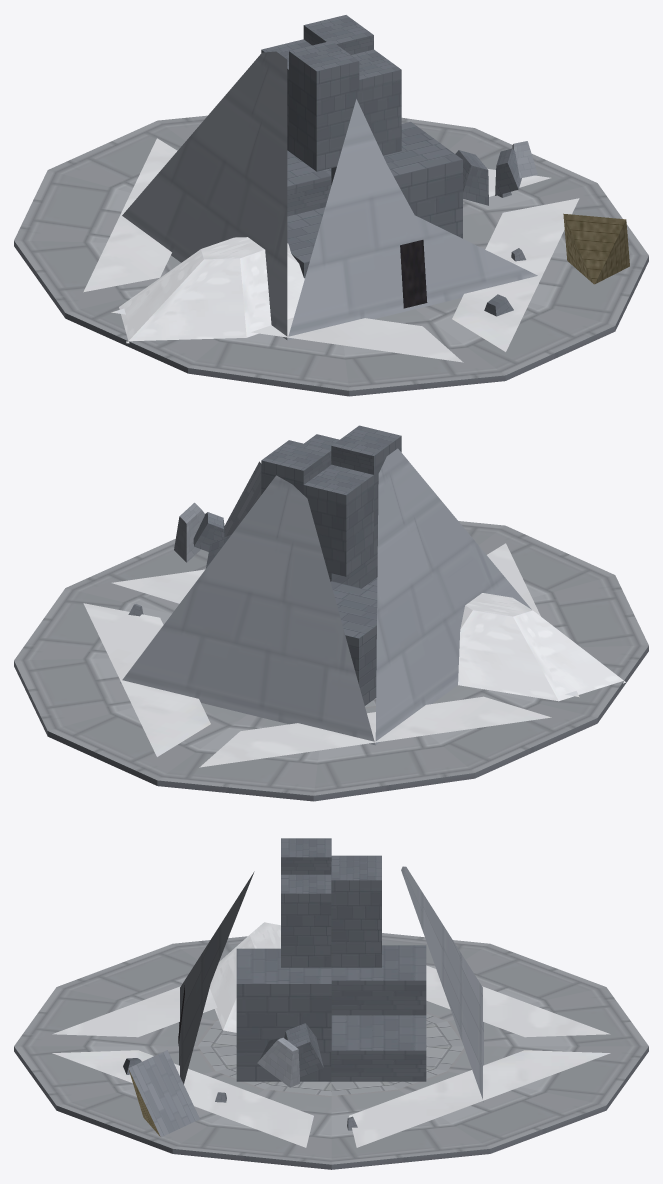
The model's file is pyramid_large_destroyed_lod2.glb.
The picture shows the model from 3 angles, top to bottom: view 1: azimuth 30°, elevation 25°; view 2: azimuth 150°, elevation 25°; view 3: azimuth 270°, elevation 25°; orthographic projection. The views are drawn at different scales.
Visible parts, largest first — view 1: pyramid_large_destroyed_lod2; view 2: pyramid_large_destroyed_lod2; view 3: pyramid_large_destroyed_lod2.
Part boxes in pixels (box(x1,y1,x2,y2)): pyramid_large_destroyed_lod2: box(14, 15, 648, 396); pyramid_large_destroyed_lod2: box(14, 425, 648, 801); pyramid_large_destroyed_lod2: box(14, 838, 648, 1169).
Size of the model in its own units: 1.68 by 0.6495 by 1.9.
Materials: 1 (1 with a texture image).
